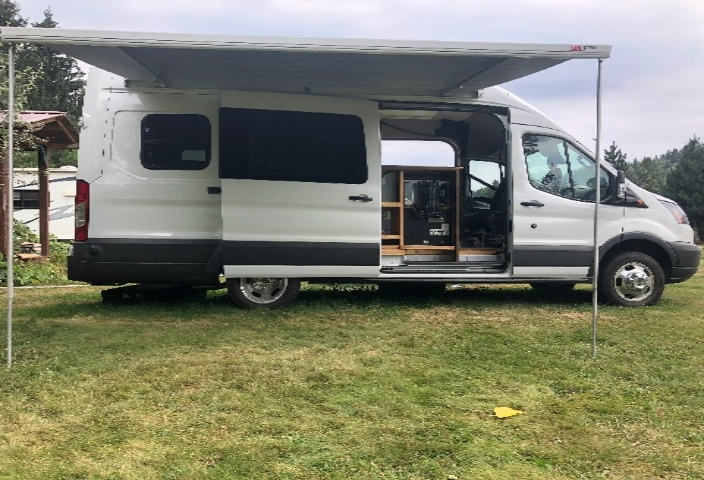van: (30, 18, 704, 349)
